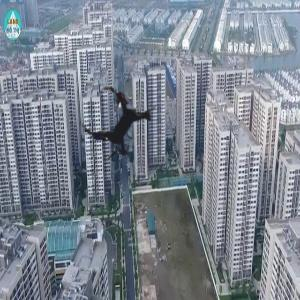drone: (53, 61, 188, 196)
